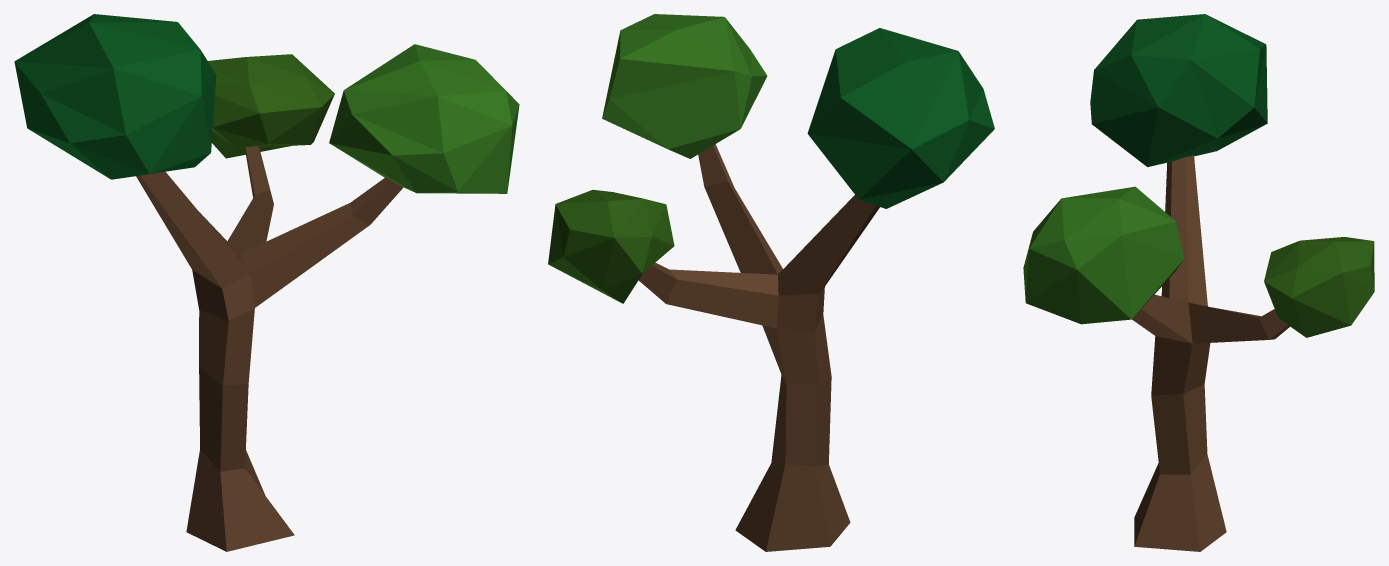
Rendered from tree-young.fbx.
3 views of the same model, side by side, from view 1: azimuth 30°, elevation 25°; view 2: azimuth 150°, elevation 25°; view 3: azimuth 270°, elevation 25° (orthographic). The views are drawn at different scales.
Parts seen in each view (by area): view 1: tree-young; view 2: tree-young; view 3: tree-young.
Part boxes in pixels (left/top/right/bottom): tree-young: left=14, top=14, right=519, bottom=551; tree-young: left=548, top=14, right=994, bottom=551; tree-young: left=1023, top=14, right=1374, bottom=551.
Size of the model in its own units: 4.74 by 5.73 by 3.95.
